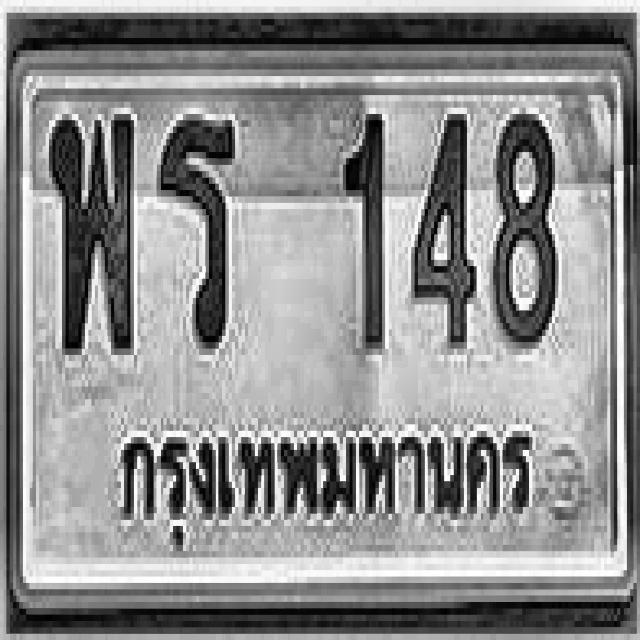license-plate: (13, 53, 633, 606)
